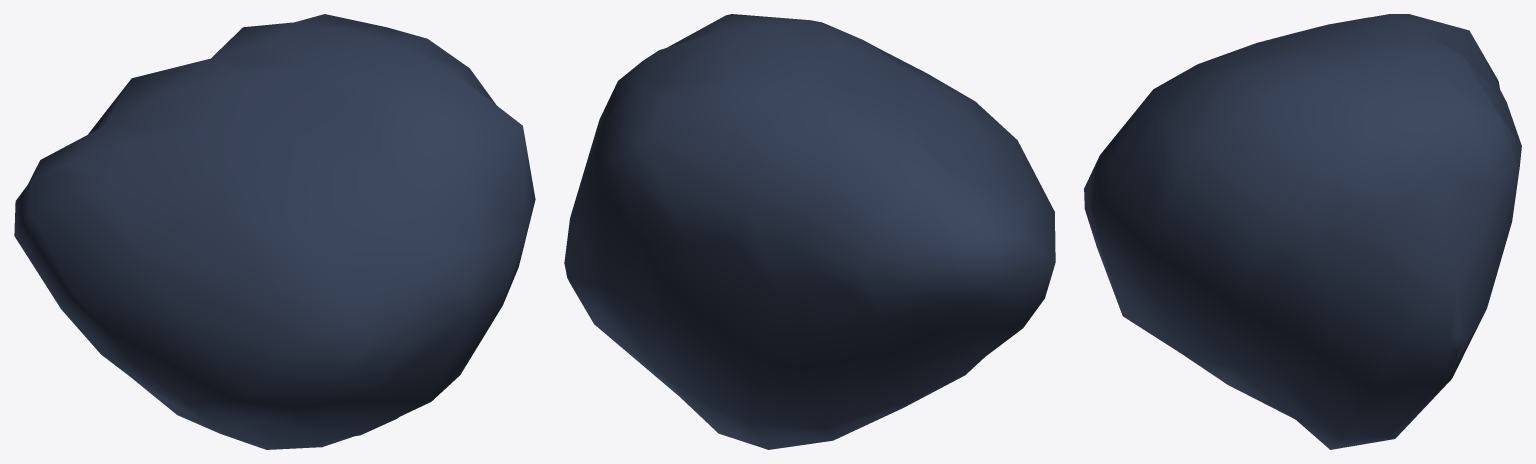
Rendered from Rock_4.fbx.
3 views of the same model, side by side, from view 1: azimuth 30°, elevation 25°; view 2: azimuth 150°, elevation 25°; view 3: azimuth 270°, elevation 25° (orthographic).
Parts seen in each view (by area): view 1: Rock 4; view 2: Rock 4; view 3: Rock 4.
Part boxes in pixels (bbox=[...]): Rock 4: bbox=[14, 14, 535, 449]; Rock 4: bbox=[564, 14, 1055, 449]; Rock 4: bbox=[1084, 14, 1521, 449].
Size of the model in its own units: 163 by 137 by 140.
